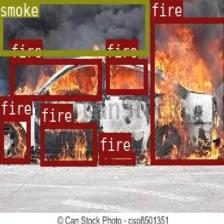fire: (150, 17, 224, 163), (9, 57, 100, 100), (40, 122, 96, 165), (105, 57, 147, 93), (0, 116, 29, 162), (98, 152, 135, 164)
smoke: (0, 0, 149, 54)
